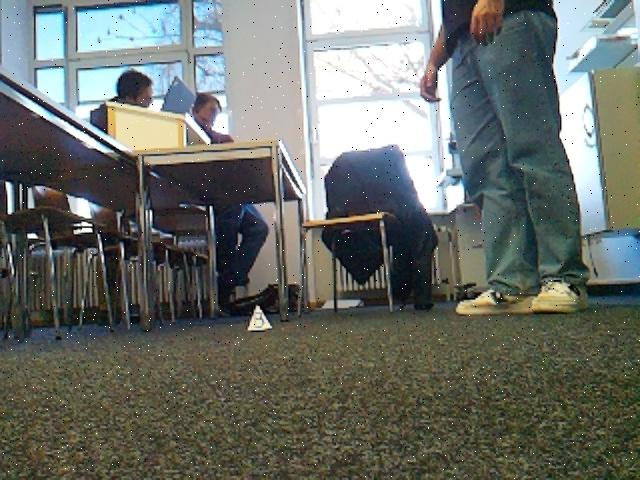B: (248, 305, 269, 330)
